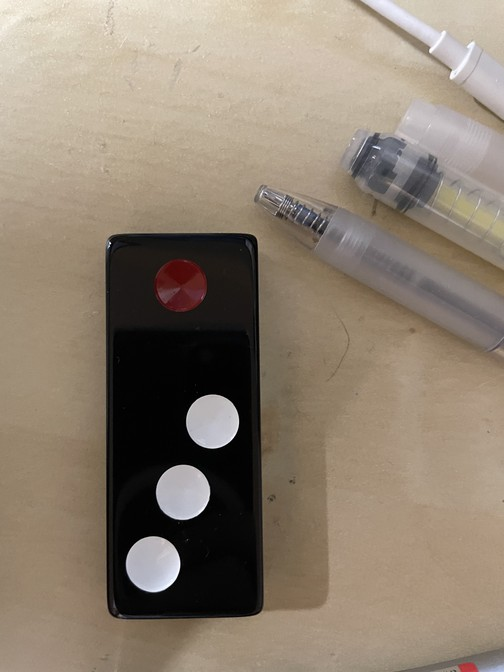goose: (105, 233, 264, 619)
